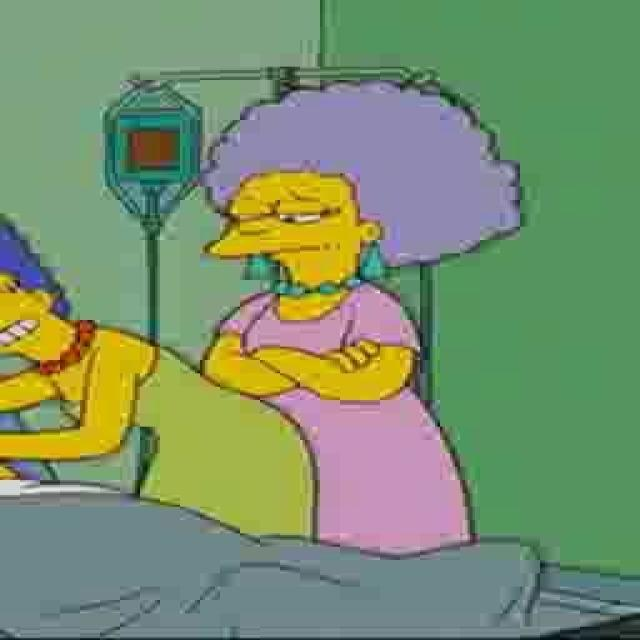Marge Simpson: (1, 208, 94, 378)
